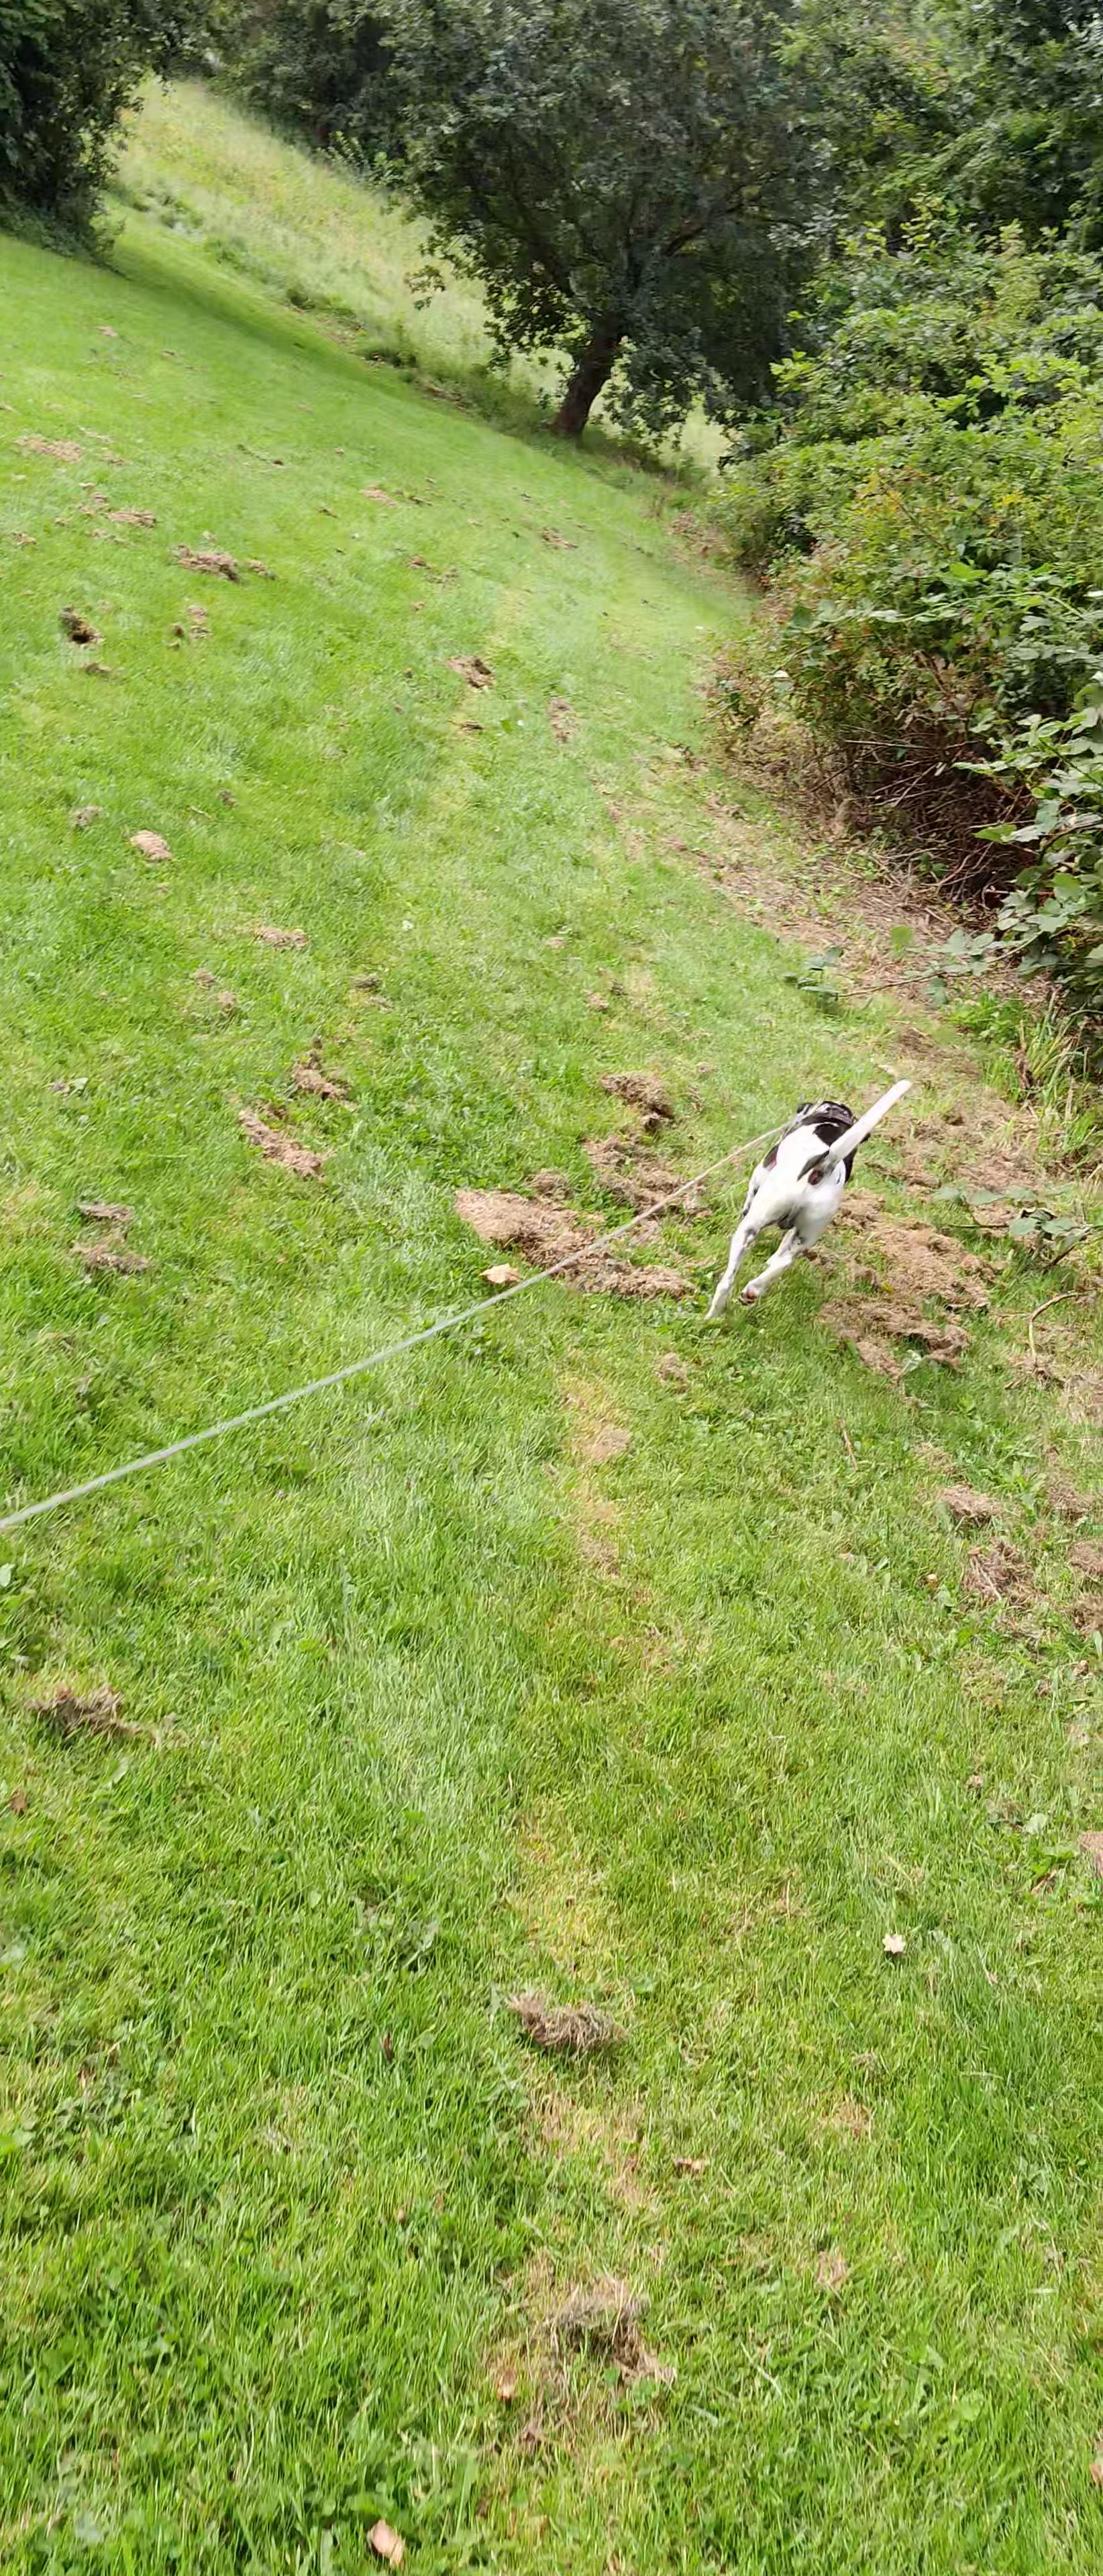Dog: (682, 1071, 927, 1322)
